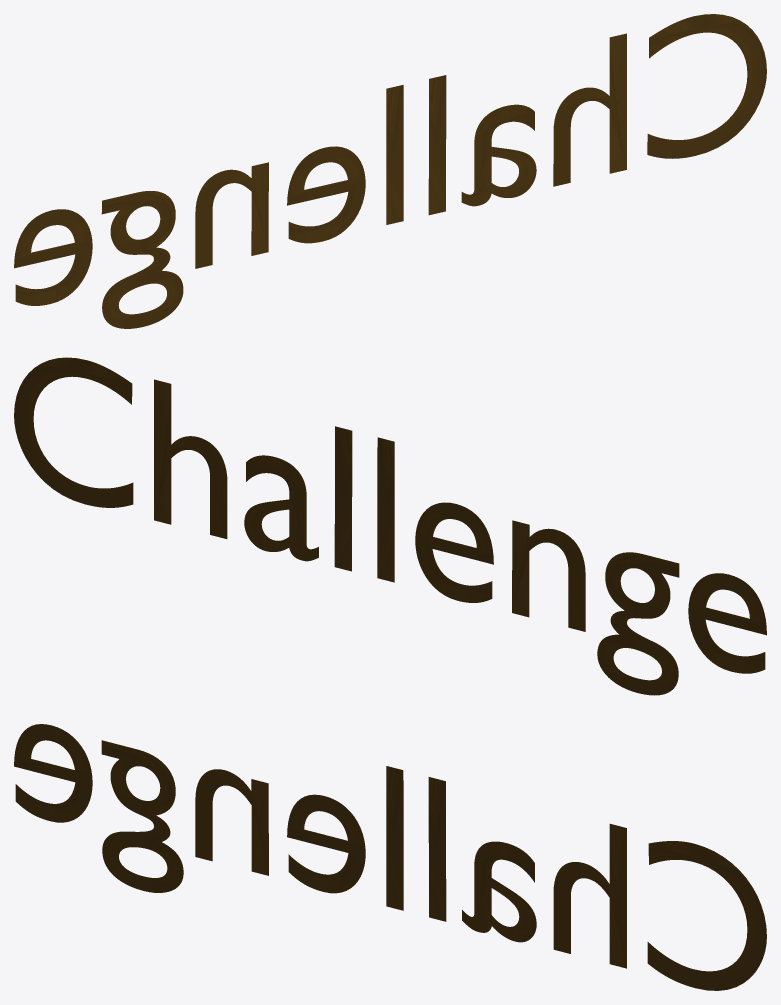
File: challenge.gltf
3 views of the same model, one above another, from view 1: azimuth 30°, elevation 25°; view 2: azimuth 150°, elevation 25°; view 3: azimuth 330°, elevation 25° (orthographic). The views are drawn at different scales.
Visible parts, largest first — view 1: Text; view 2: Text; view 3: Text.
Part boxes in pixels (<box>): Text: <box>14,14,766,328</box>; Text: <box>14,357,766,695</box>; Text: <box>14,724,766,990</box>.
Bounding box in the file's own units: 49.26 × 11.71 × 1.28.
1 material, 1 textured.
